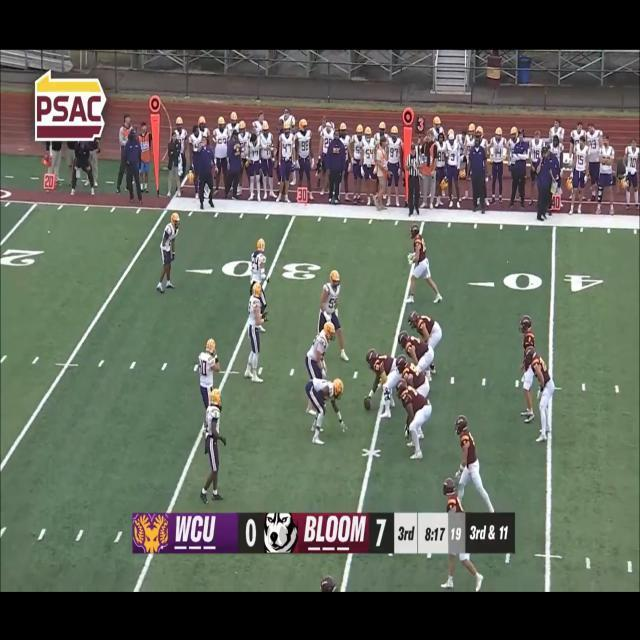football: (362, 395, 372, 411)
